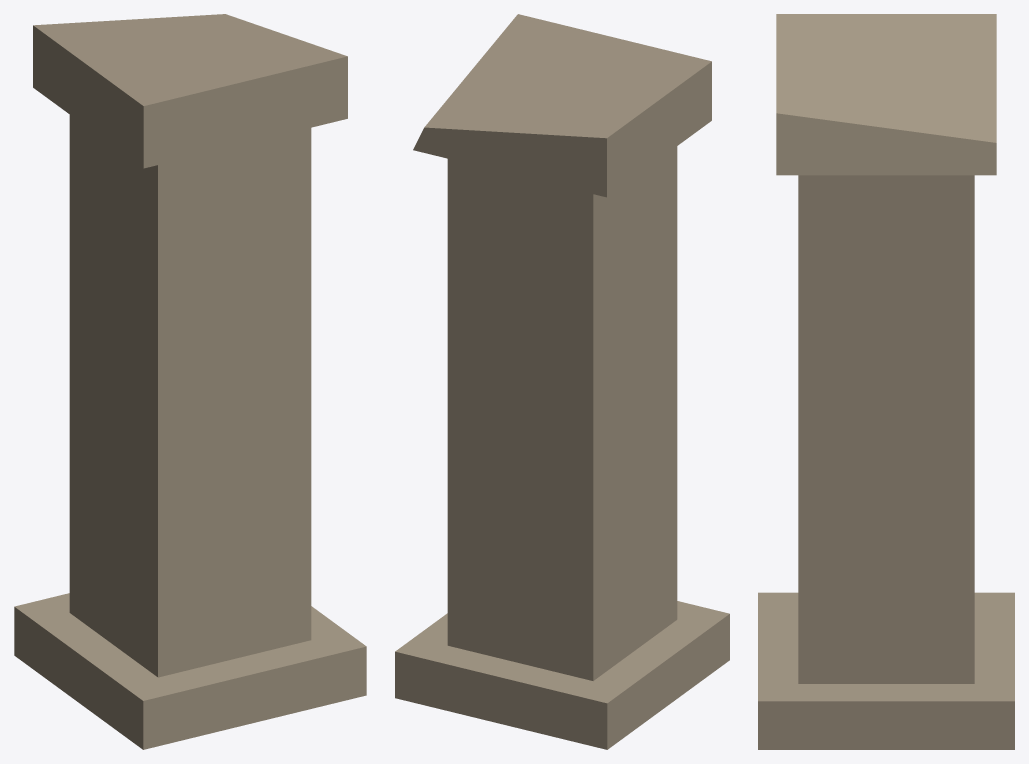
File: pillar.glb
3 views of the same model, side by side, from view 1: azimuth 30°, elevation 25°; view 2: azimuth 150°, elevation 25°; view 3: azimuth 270°, elevation 25° (orthographic). The views are drawn at different scales.
Parts seen in each view (by area): view 1: Pillar; view 2: Pillar; view 3: Pillar.
Part boxes in pixels (x1,y1,x2,y2): Pillar: [14, 14, 366, 749]; Pillar: [395, 14, 729, 749]; Pillar: [758, 14, 1014, 749].
Size of the model in its own units: 1.05 by 2.85 by 1.05.
